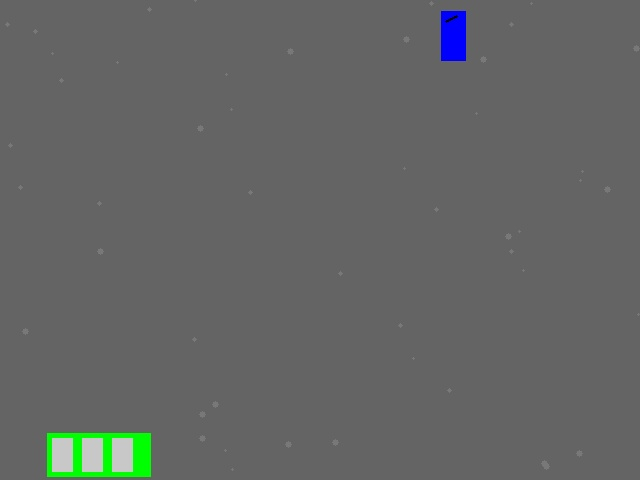bus: (47, 433, 150, 476)
motorcycle: (441, 11, 465, 60)
